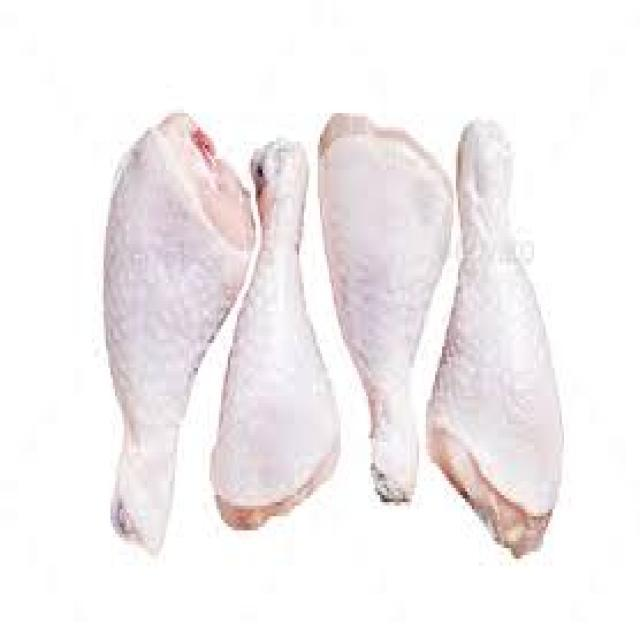leg: (92, 95, 246, 582), (438, 111, 564, 574), (318, 110, 450, 518), (219, 130, 340, 534)
